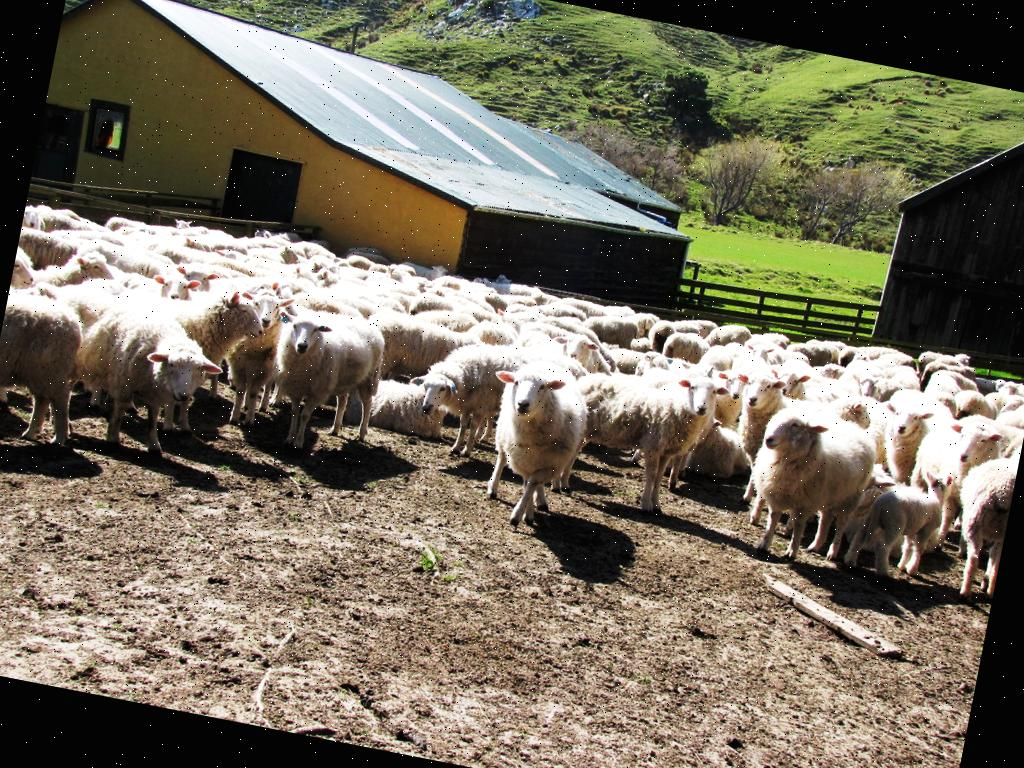Sheep: (26, 279, 234, 469), (554, 354, 732, 524), (731, 397, 891, 573), (464, 344, 600, 538), (256, 303, 398, 466), (891, 410, 1014, 588), (89, 260, 265, 384), (406, 330, 552, 472), (716, 368, 836, 494), (844, 456, 960, 584), (0, 290, 93, 444), (942, 433, 1022, 596), (356, 300, 494, 394), (209, 284, 297, 426), (870, 398, 960, 495), (40, 238, 123, 302), (516, 322, 602, 366), (766, 368, 829, 406), (640, 316, 689, 360), (662, 328, 716, 366), (9, 254, 47, 294), (739, 338, 783, 372)
